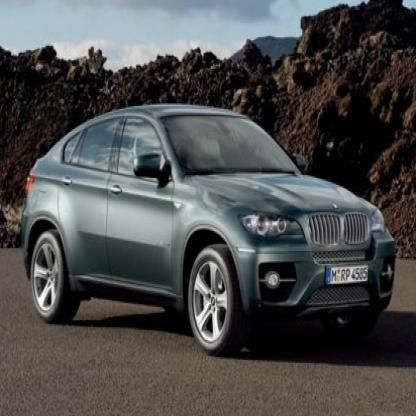Vehicle: (15, 96, 402, 363)
